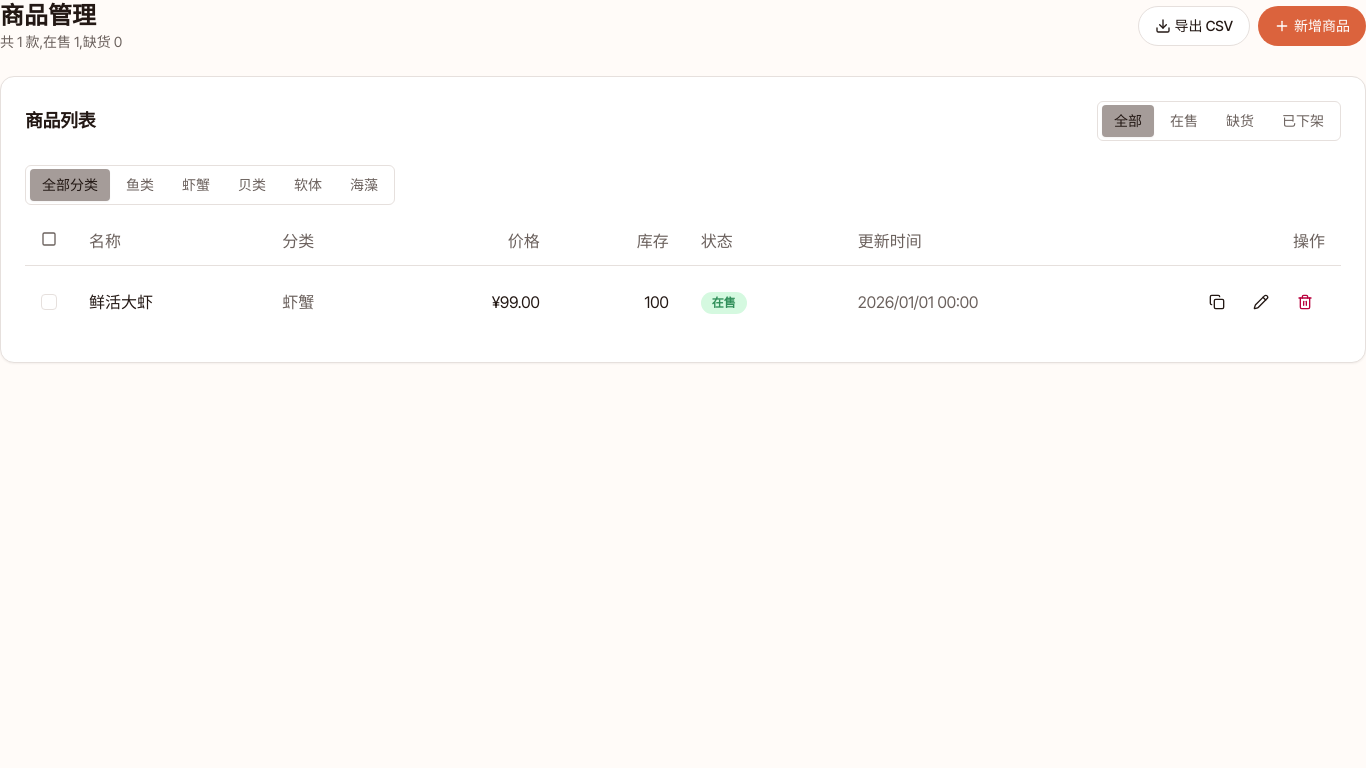
Test: ProductListPage › opens the create dialog and shows the form
This screenshot has width=1366, height=768.
Check: the text "鲜活大虾" is shown, box [73,265,266,338]
Click the button "新增商品" at (1312, 26), box [1258,6,1365,46]
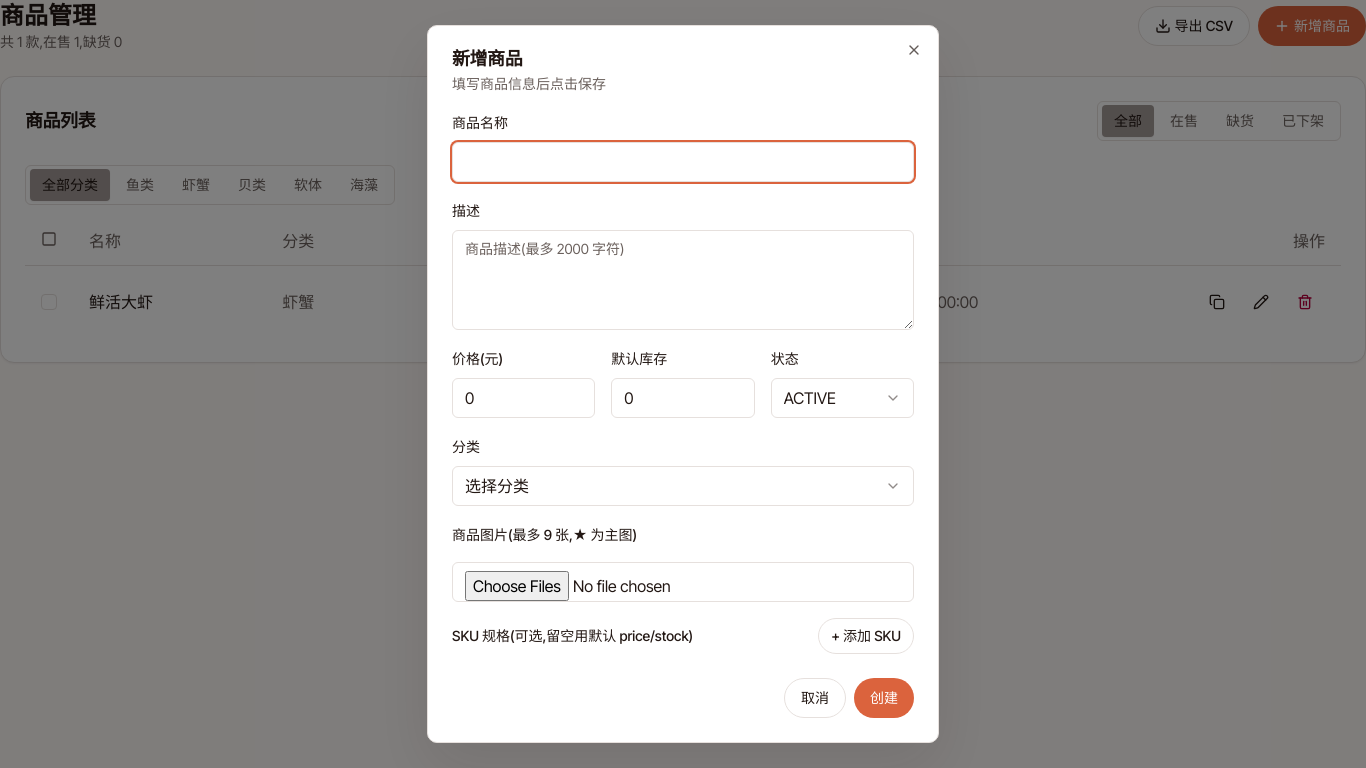
Check: the heading "新增商品" is shown, box [452,48,522,69]
Check: the field labelled "商品名称" is shown, box [452,142,914,182]
